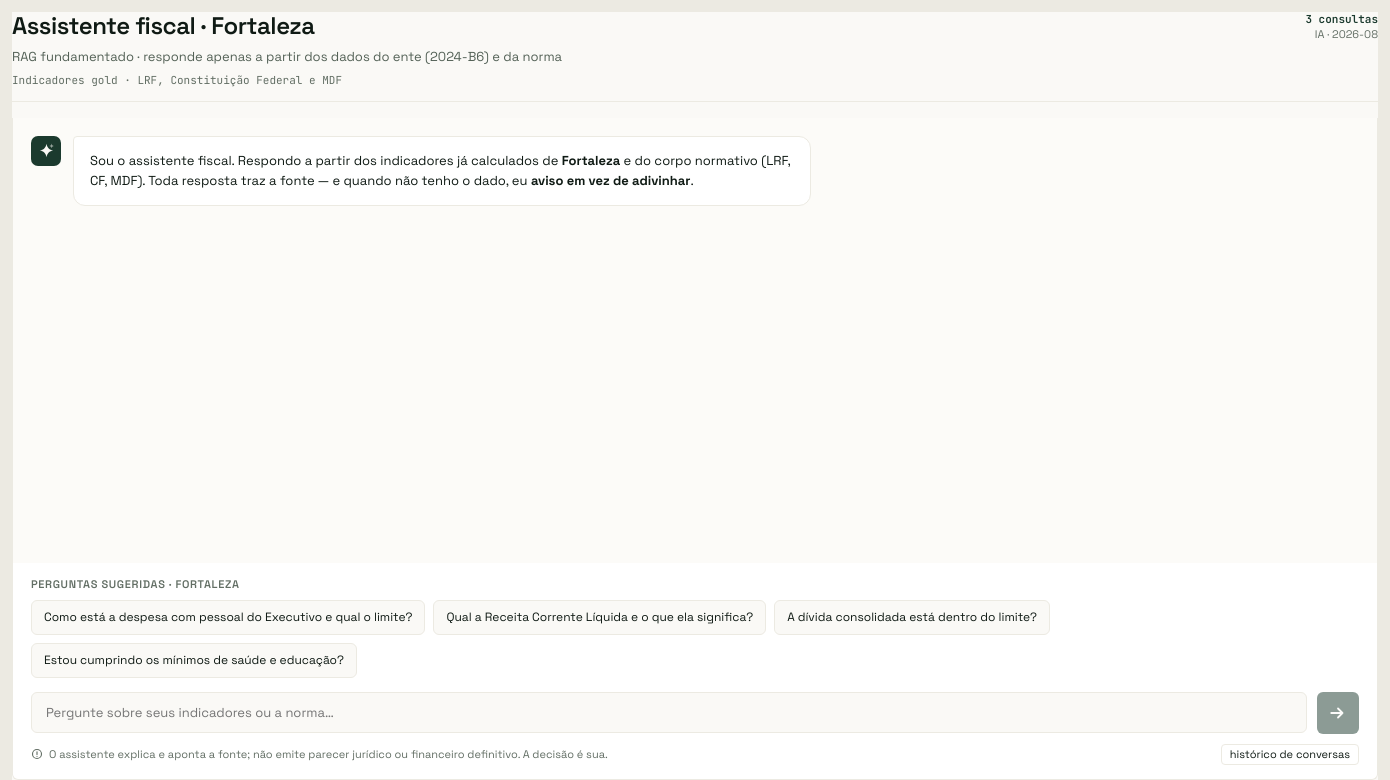
Test: Assistente — a conversa continua (Sprint IA-7) › mostra contexto retornado, verificação e turnos usados/descartados
Type "Qual é o contexto?" into the field with placeholder "Pergunte sobre seus indicadores ou a norma…" at (669, 713), box [31,692,1307,733]
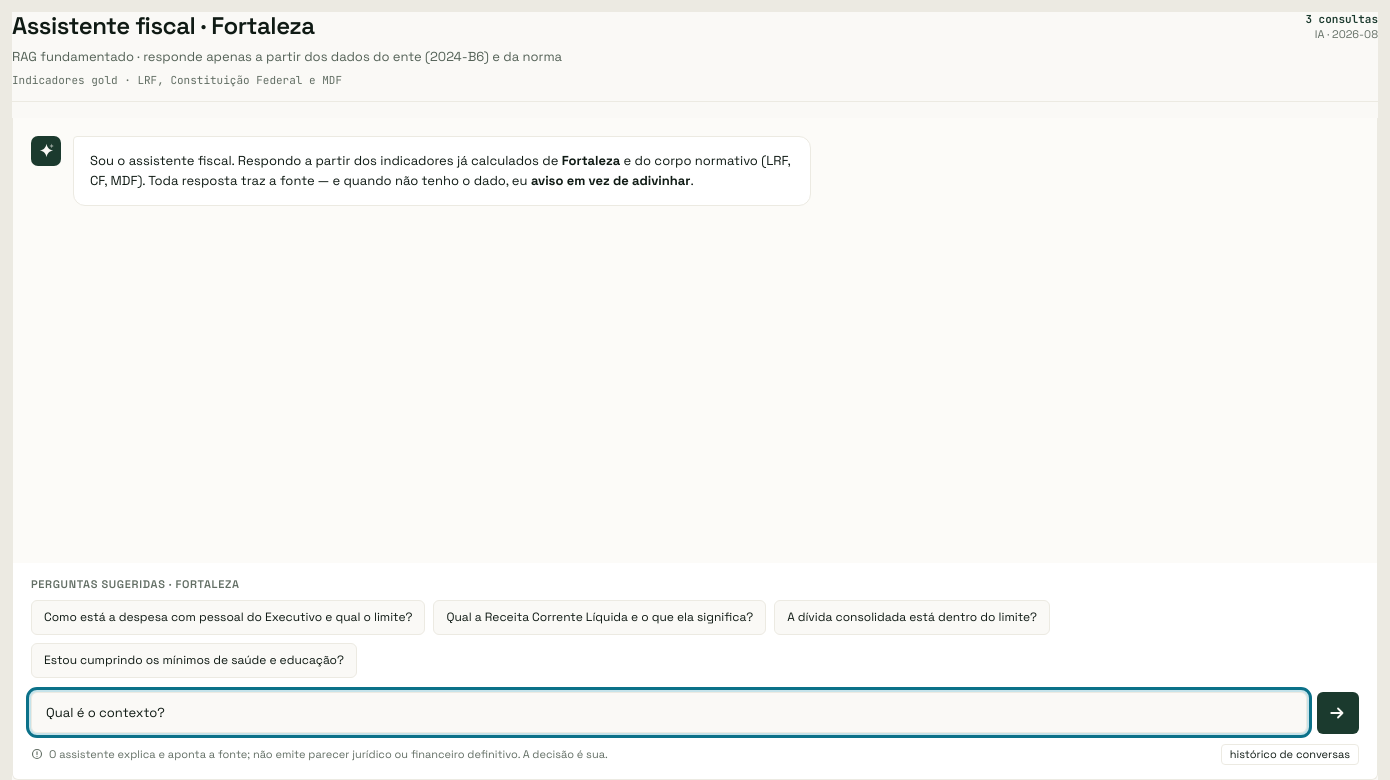
Click the button named "Enviar pergunta" at (1338, 713), box [1317,692,1359,734]
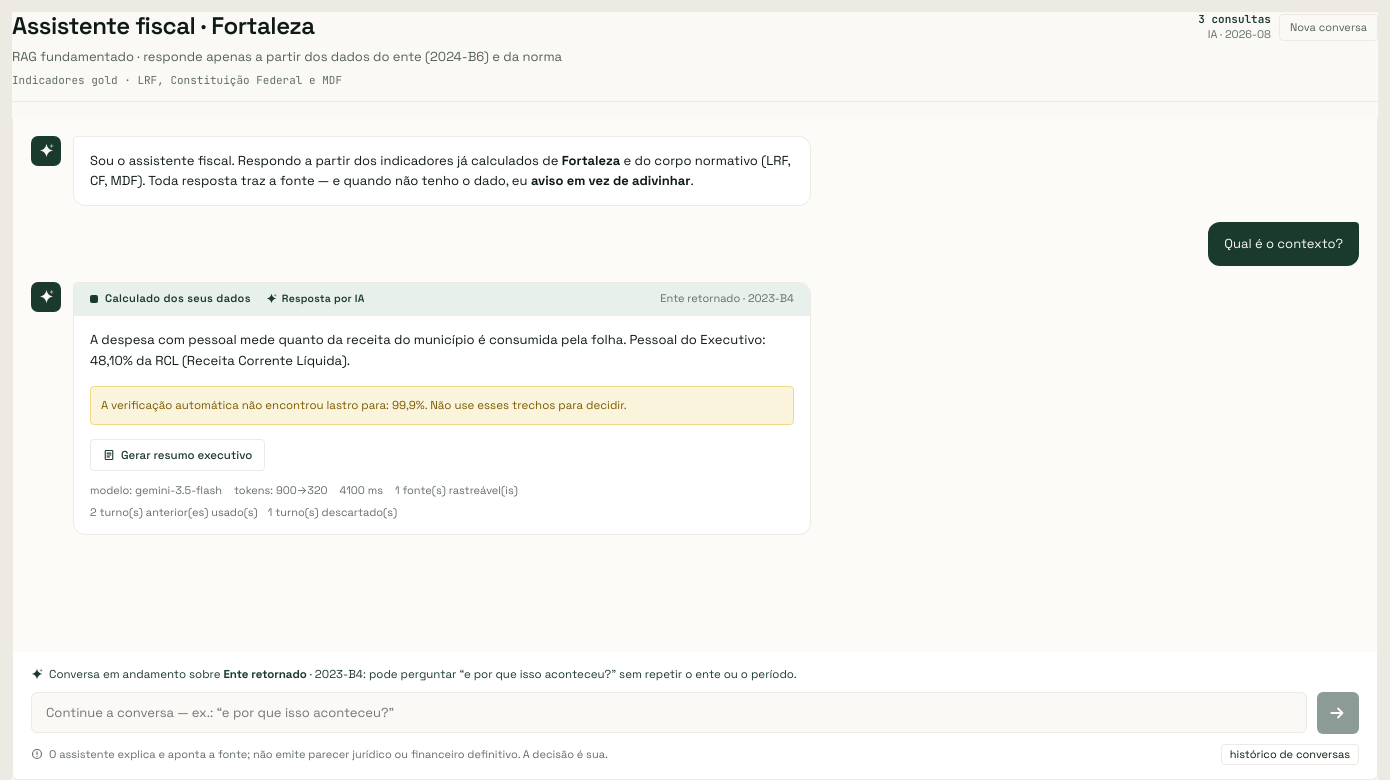
Expected: the text with test id "contexto-resposta" reads "Ente retornado · 2023-B4", [660,291,794,307]
Expected: the message shows "99,9%", [392,398,425,412]
Expected: the element with test id "turnos-contexto" shows "2 turno(s) anterior(es) usado(s)", [90,505,397,519]
